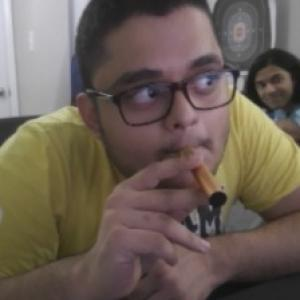Golden-E-Ciggirate: (182, 144, 231, 210)
